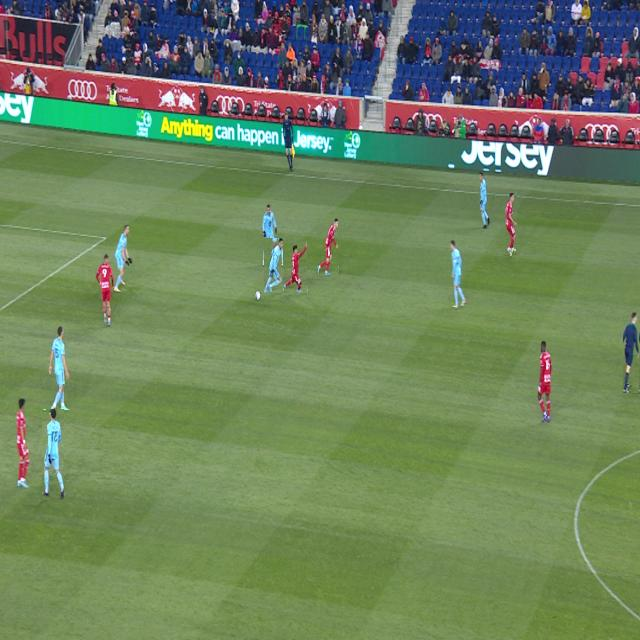football: (255, 291, 261, 301)
player: (43, 410, 64, 500), (49, 327, 69, 417), (96, 254, 114, 326), (114, 225, 132, 292), (16, 399, 29, 488), (284, 243, 307, 293), (318, 219, 338, 275), (264, 238, 283, 293), (538, 342, 551, 422), (451, 241, 466, 308), (262, 205, 276, 266), (505, 194, 517, 255), (480, 172, 490, 229)
referee: (623, 313, 640, 393)
